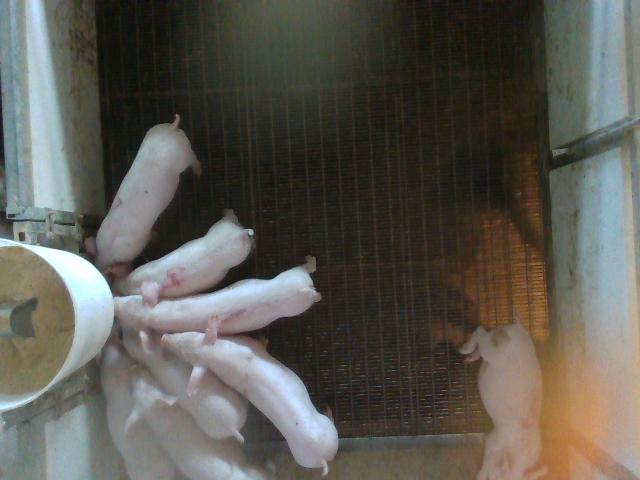pig-1: (114, 256, 321, 334)
pig-3: (459, 321, 548, 478)
pig-4: (115, 209, 254, 306)
